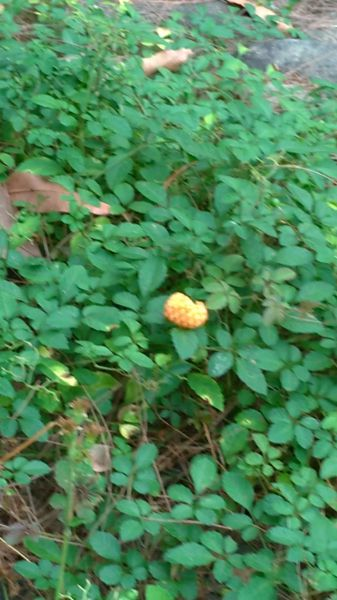eggs: (157, 289, 211, 334)
